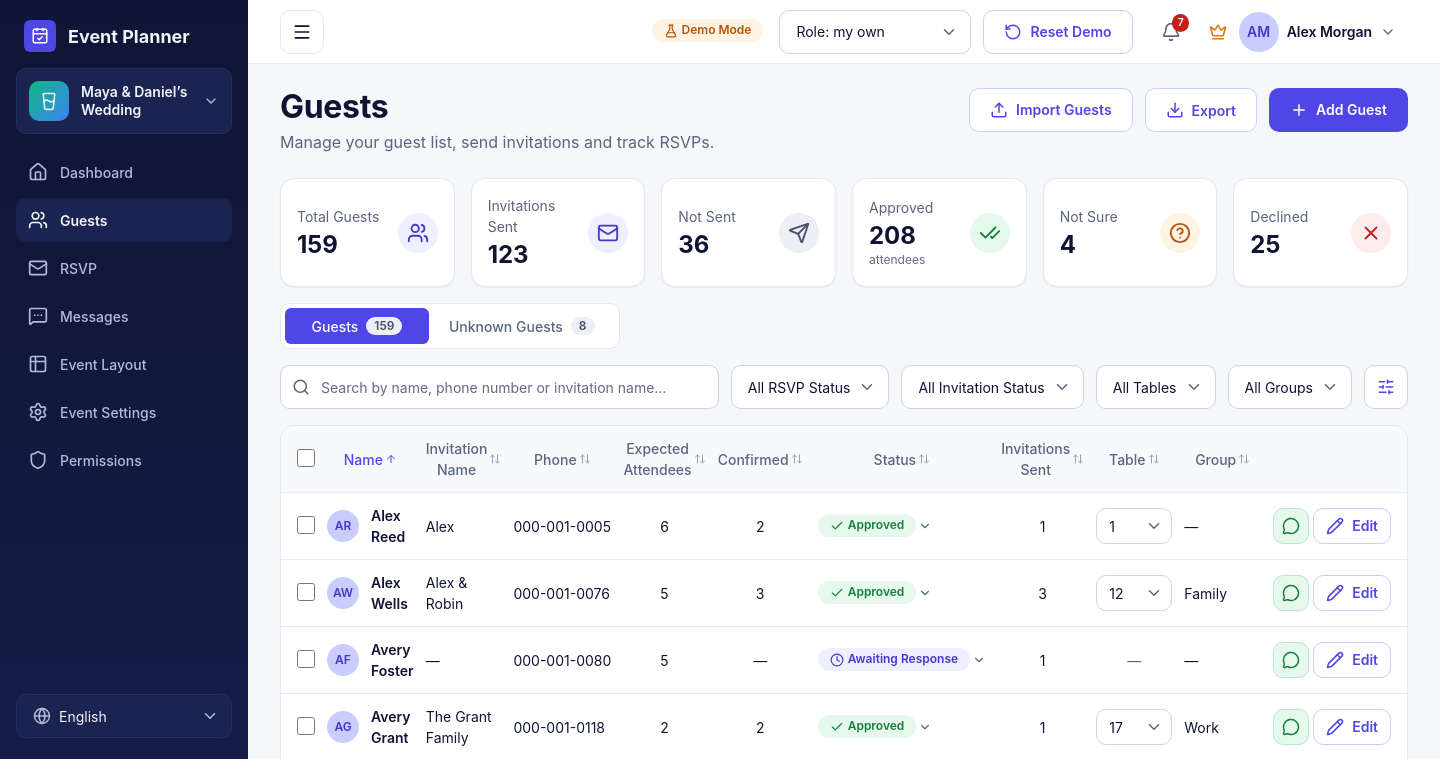
Test: Guests list › sorts by a column, reversing on a second click
Expected: the element named "Guest figures" is shown, [280,178,1408,287]
Click the button "Expected Attendees" at (664, 459), box [623,438,706,480]
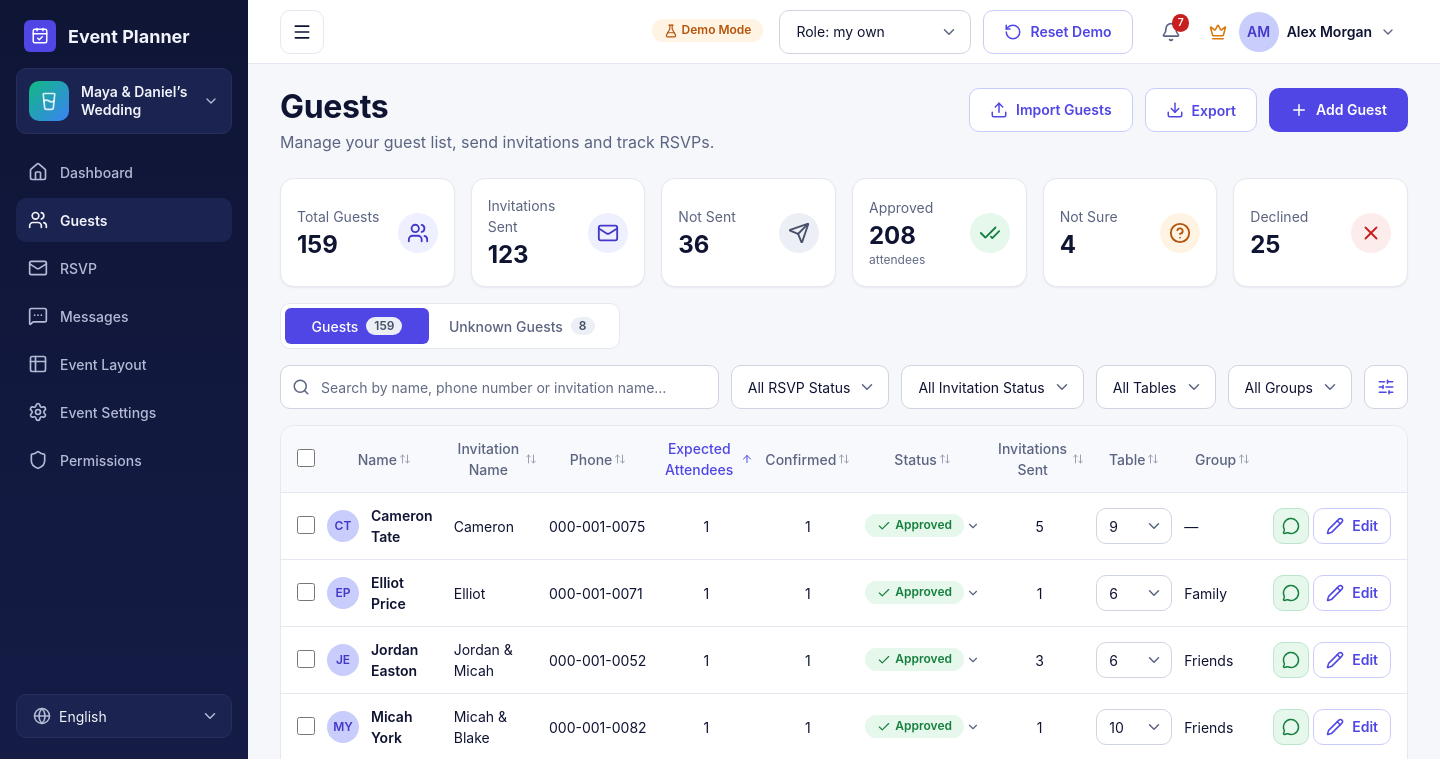
Expected: the 1st cell "1" is shown, [653,493,759,560]
Click the button "Expected Attendees" at (706, 459), box [659,438,753,480]
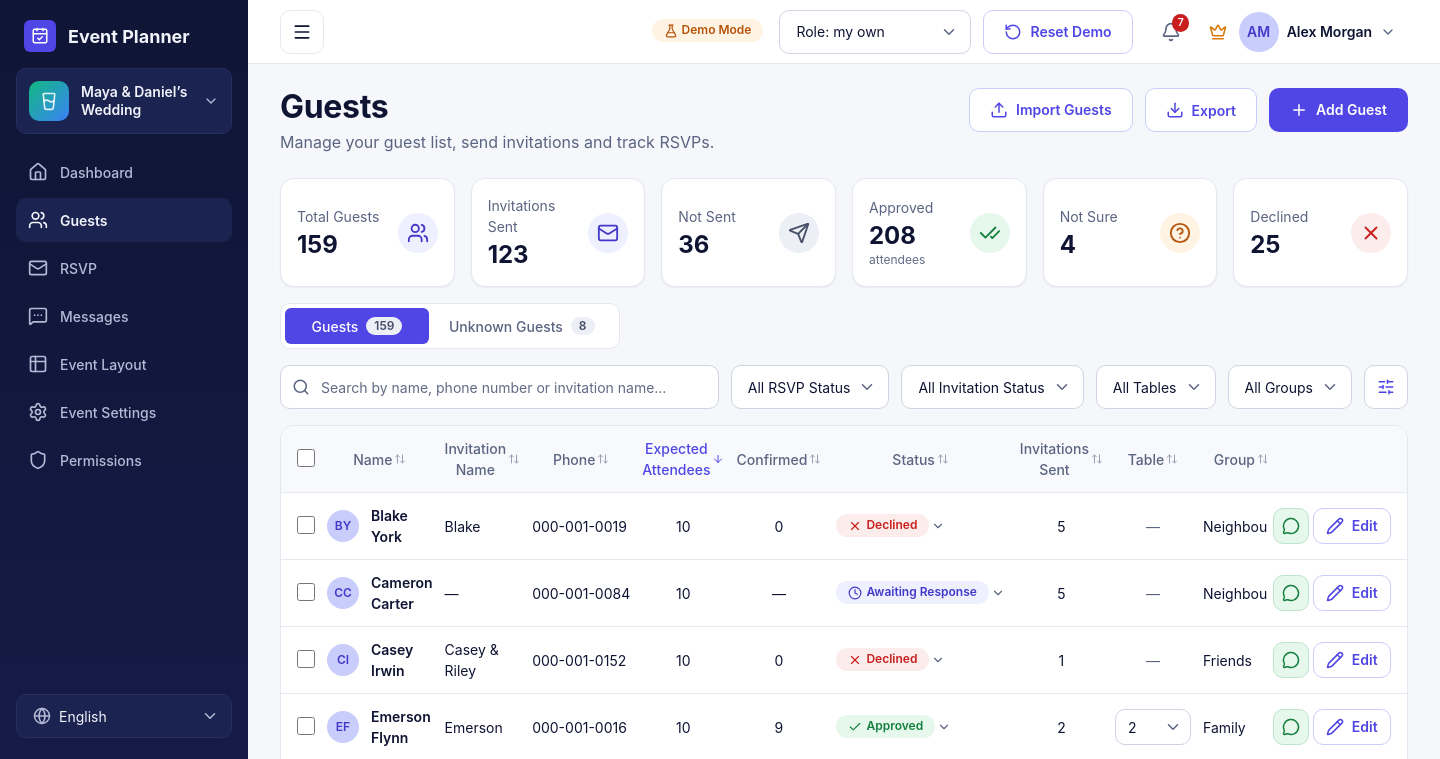
Expected: the cell "10" in the row of "BY" is shown, [676,518,691,535]
